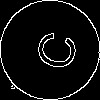C: (25, 25, 80, 74)
